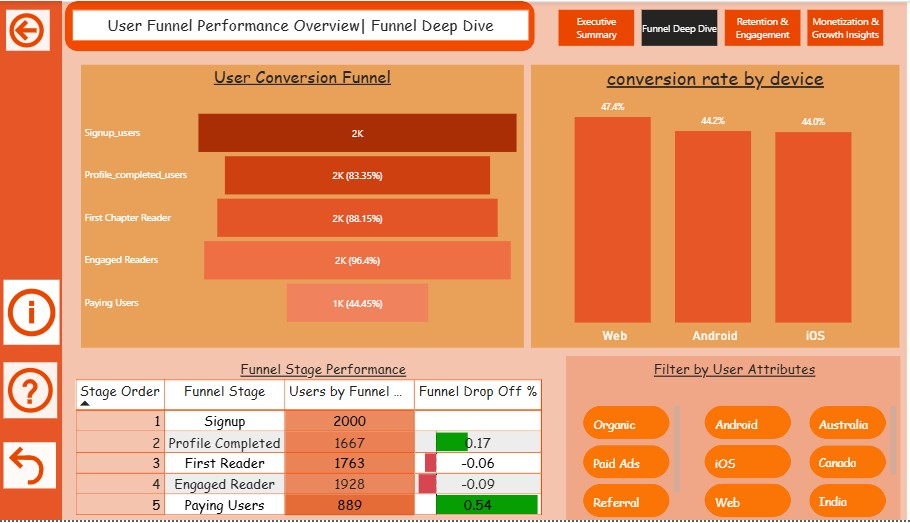

Layout of this report page (visuals, bound fields, positions):
{"tool":"powerbi","page":{"name":"Funnel Deep Dive","canvas":[1280,720],"ordinal":1},"visuals":[{"type":"shape","box":[0,1.4,1268.9,719.3],"z":0},{"type":"shape","box":[10.5,0,88.4,719.8],"z":1000},{"type":"funnel","title":"User Conversion Funnel","fields":{"Y":["reading_app_funnel_dataset.Signup_users","reading_app_funnel_dataset.Profile_completed_users","reading_app_funnel_dataset.First Chapter Reader","reading_app_funnel_dataset.Engaged Readers","reading_app_funnel_dataset.Paying Users"]},"box":[125.2,87.7,613.6,392.3],"z":2000},{"type":"columnChart","title":"conversion rate by device","fields":{"Y":["reading_app_funnel_dataset.conversion to paid"],"Category":["reading_app_funnel_dataset.device"]},"box":[748.5,87.7,510.6,392.3],"z":3000},{"type":"tableEx","fields":{"Values":["Funnel_Stage.Stage Order","Funnel_Stage.Funnel Stage","Funnel_Stage.Users by Funnel Stage","Funnel_Stage.Funnel Drop Off %"]},"box":[111.3,520.3,663.7,199],"z":4000},{"type":"shape","box":[795.8,491.1,463.3,229.6],"z":6000},{"type":"advancedSlicerVisual","title":"Funnel Filters","fields":{"Values":["reading_app_funnel_dataset.source"]},"box":[815.3,555.1,143.3,164.2],"z":7000},{"type":"advancedSlicerVisual","fields":{"Values":["reading_app_funnel_dataset.device"]},"box":[983.7,555.1,130.8,164.2],"z":8000},{"type":"advancedSlicerVisual","fields":{"Values":["reading_app_funnel_dataset.country"]},"box":[1128.3,555.1,130.8,164.2],"z":9000},{"type":"textbox","box":[834.8,491.1,391,43.1],"z":10000},{"type":"textbox","box":[335.3,491.1,249,40.3],"z":11000},{"type":"shape","box":[103,0,651.1,69.6],"z":12000},{"type":"textbox","box":[112.7,12.5,633,43.1],"z":13000}]}

Visuals, with their boxes in screenshot pixels (x1, y1, x2, y2), scaled from the page's 1280x720 canvas onto the 910x523 screenshot:
shape: pyautogui.locateOnScreen(0, 1, 902, 522)
shape: pyautogui.locateOnScreen(7, 0, 70, 522)
"User Conversion Funnel" funnel: pyautogui.locateOnScreen(89, 64, 525, 349)
"conversion rate by device" columnChart: pyautogui.locateOnScreen(532, 64, 895, 349)
tableEx - Funnel_Stage.Stage Order x Funnel_Stage.Funnel Stage: pyautogui.locateOnScreen(79, 378, 551, 522)
shape: pyautogui.locateOnScreen(566, 357, 895, 522)
"Funnel Filters" advancedSlicerVisual: pyautogui.locateOnScreen(580, 403, 682, 522)
advancedSlicerVisual - reading_app_funnel_dataset.device: pyautogui.locateOnScreen(699, 403, 792, 522)
advancedSlicerVisual - reading_app_funnel_dataset.country: pyautogui.locateOnScreen(802, 403, 895, 522)
textbox: pyautogui.locateOnScreen(593, 357, 871, 388)
textbox: pyautogui.locateOnScreen(238, 357, 415, 386)
shape: pyautogui.locateOnScreen(73, 0, 536, 51)
textbox: pyautogui.locateOnScreen(80, 9, 530, 40)
